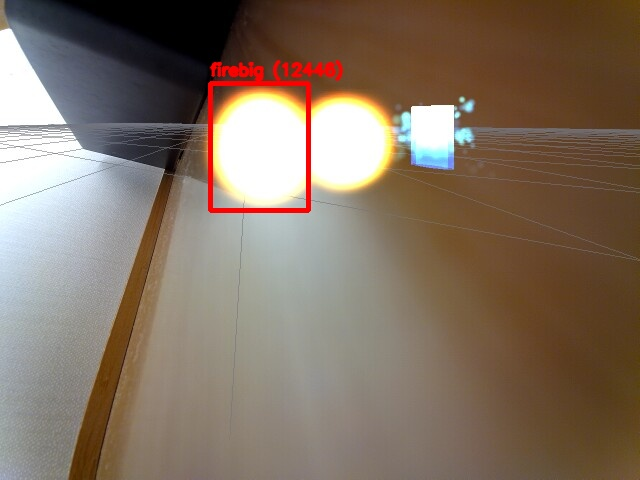firebig: (210, 83, 308, 210)
